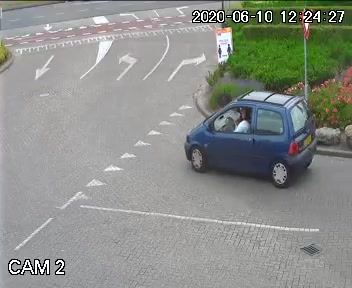car: (176, 80, 318, 190)
